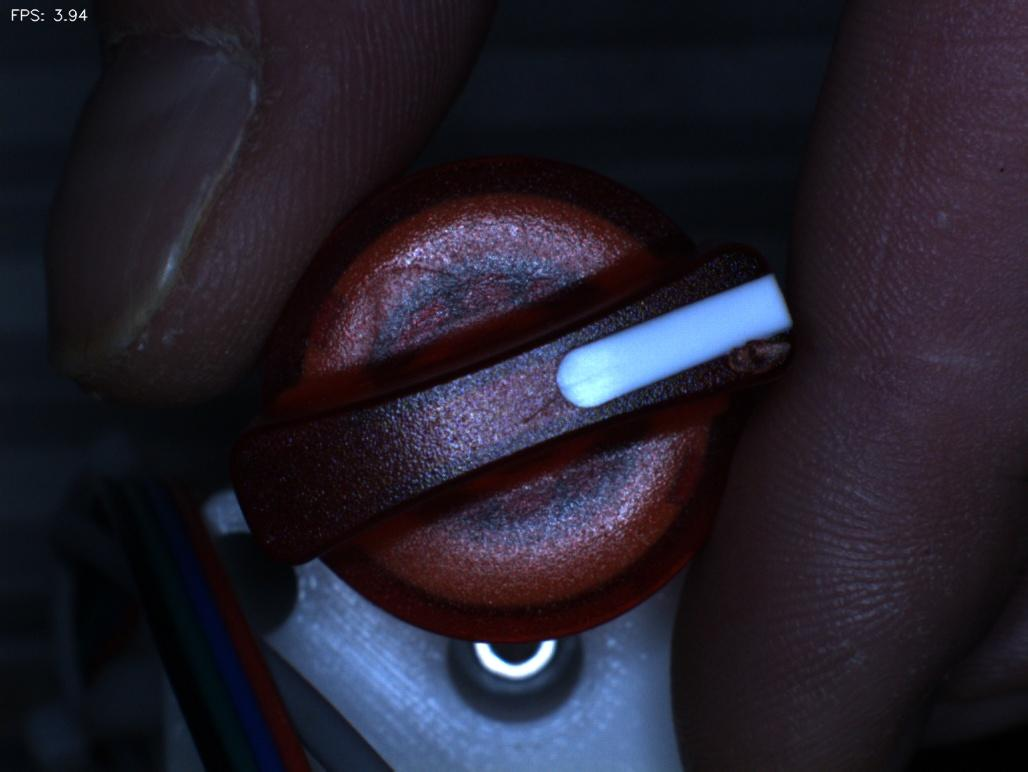Choc: (715, 307, 811, 400)
